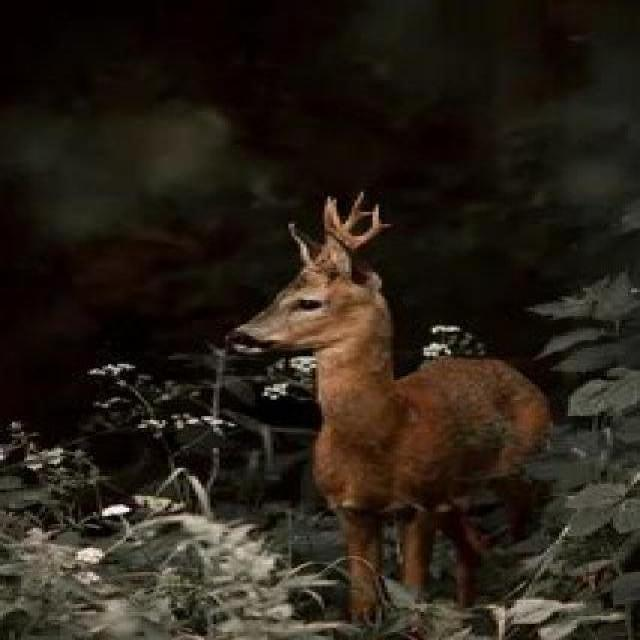deer: (175, 193, 639, 640)
